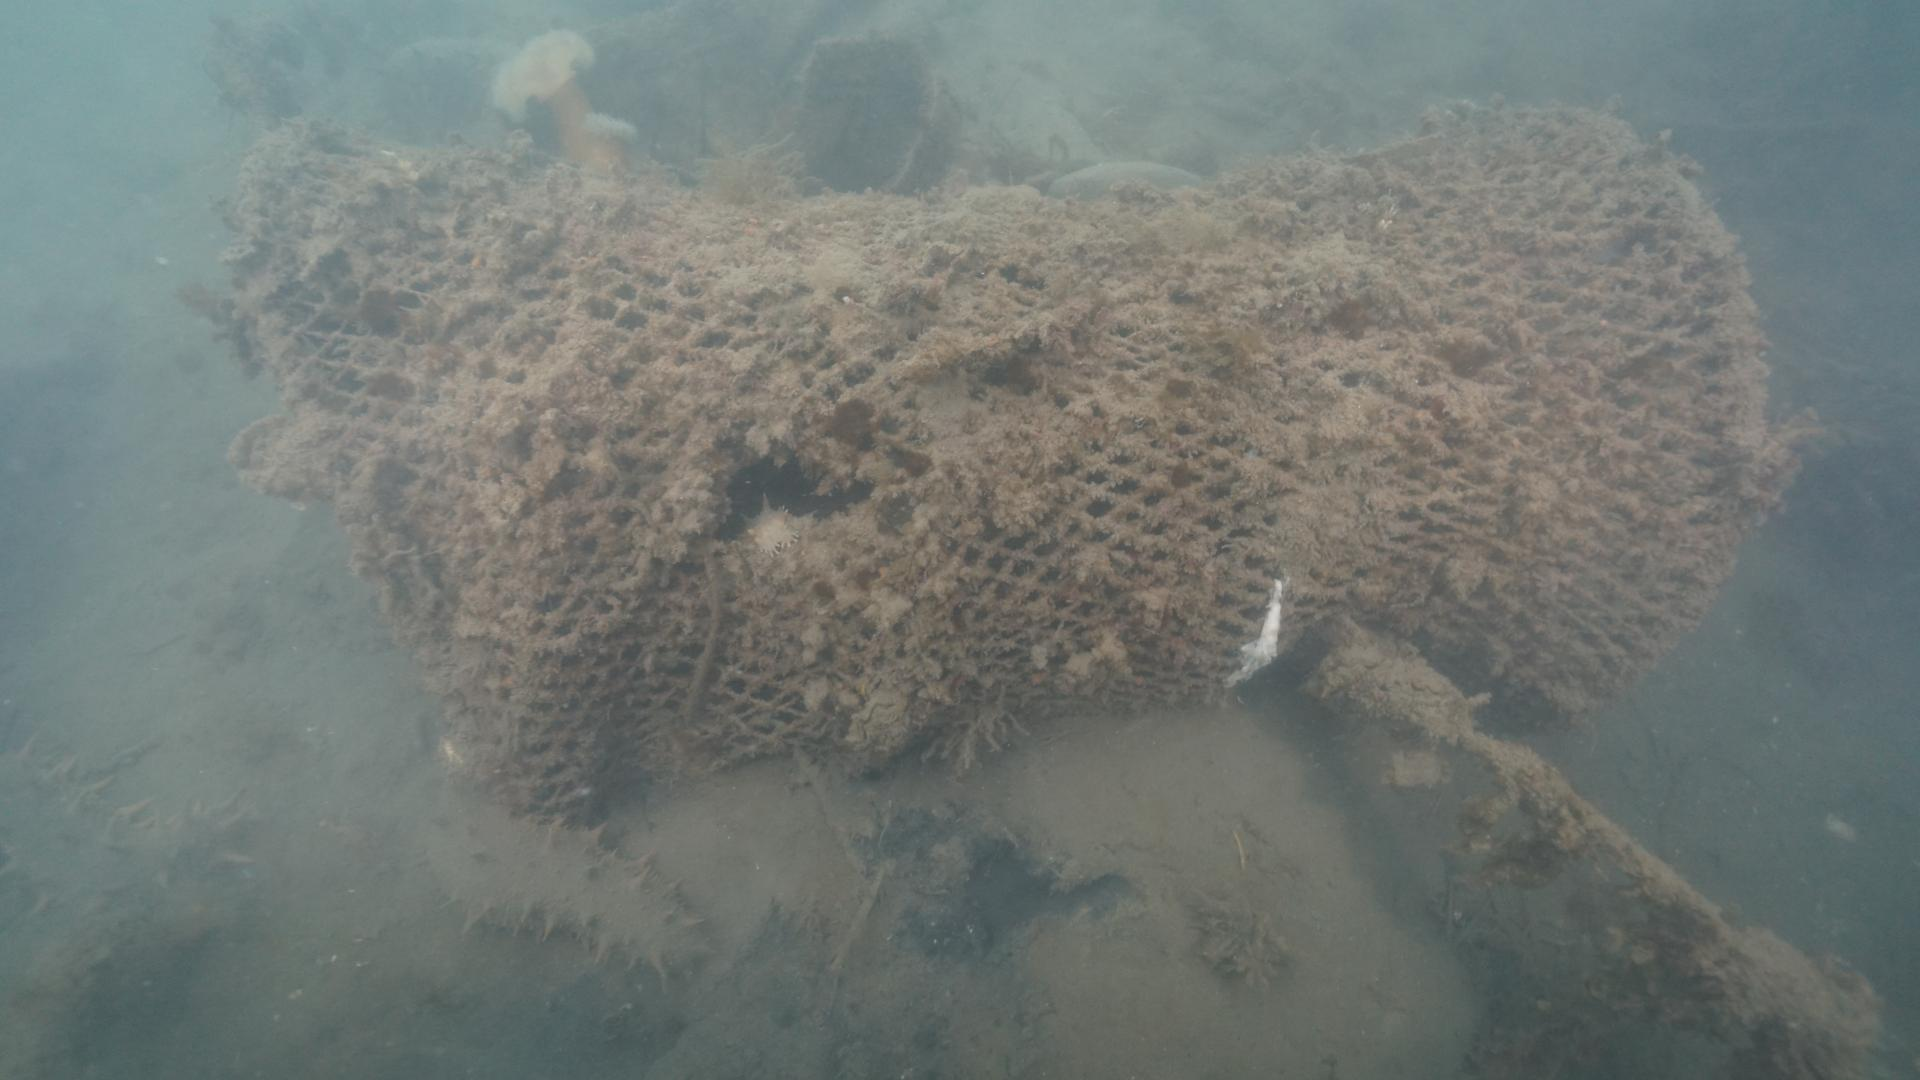spring fish trap: (214, 88, 1774, 808)
